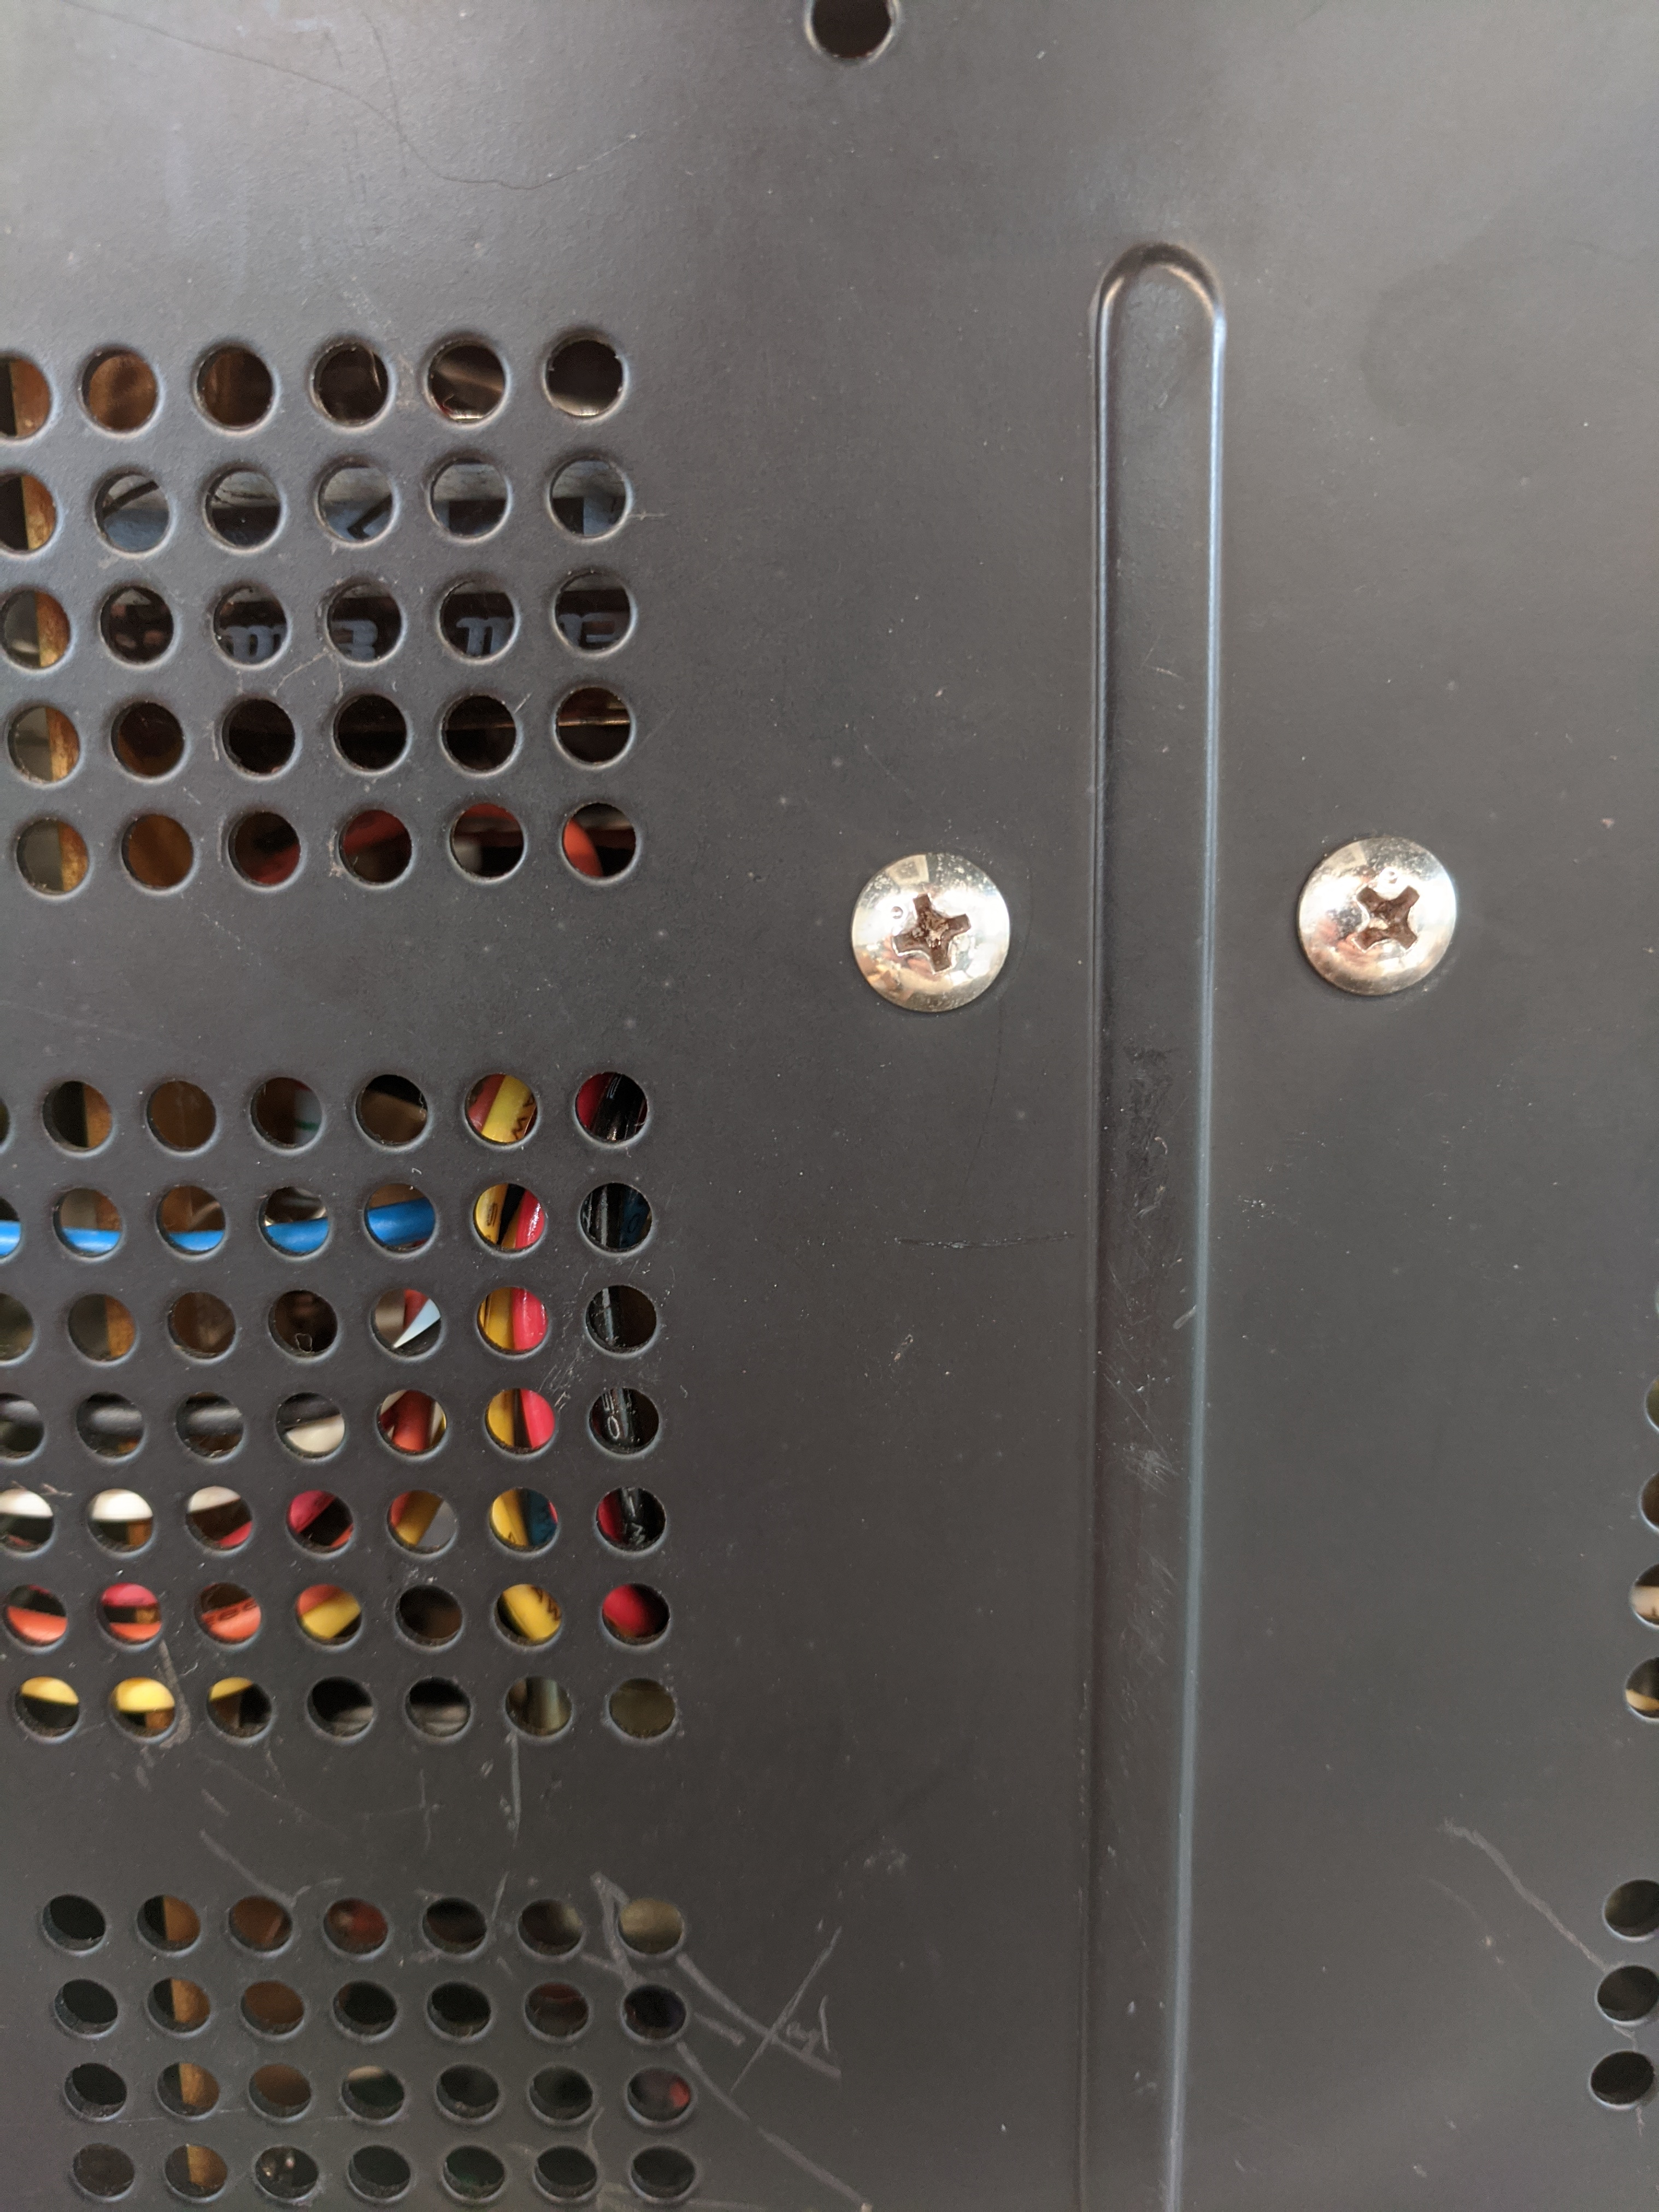cross_recessed_screw: (842, 840, 1016, 1017), (1288, 831, 1466, 993)
